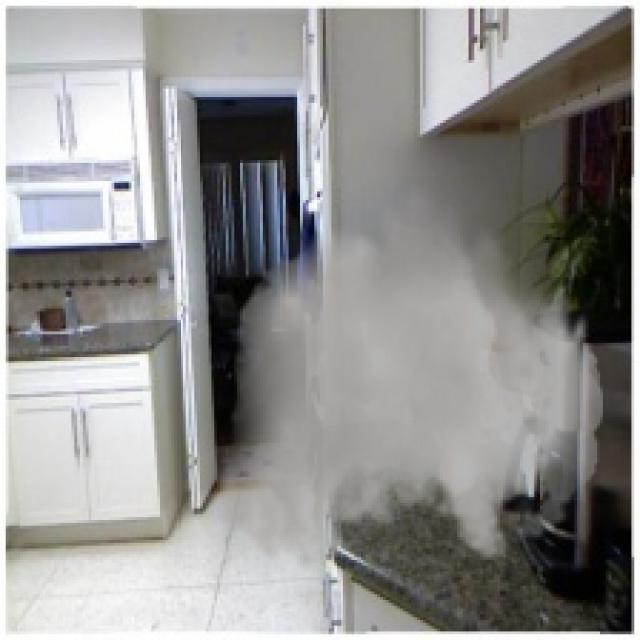Smoke: (217, 177, 603, 572)
